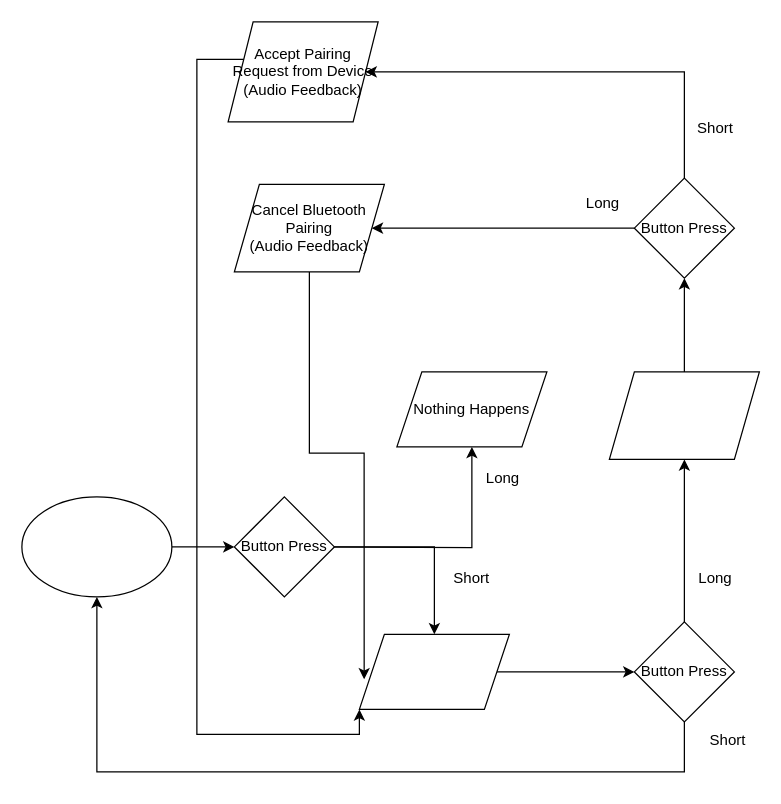
Image size: 781x804. Some labels were removed from this diagram. The centre of each missing label's shape, as x and y in pixels:
"Power Off" goes at pixel 96 546.
"Power On (Audio Feedback)" goes at pixel 433 671.
"Start Bluetooth Pairing (Audio Feedback)" goes at pixel 683 415.
